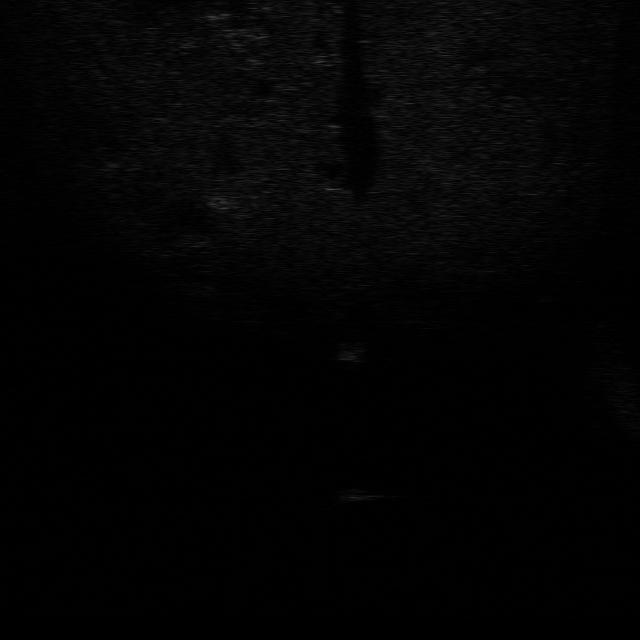cube: (334, 484, 381, 504)
square cage: (333, 336, 368, 364)
